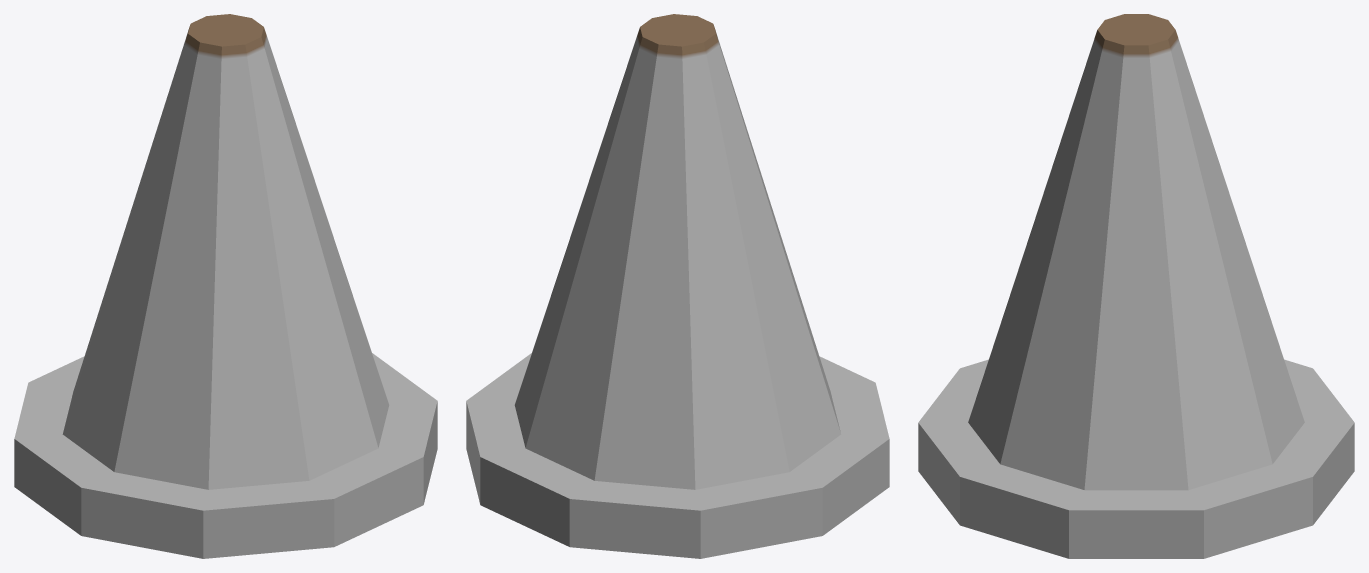
The model's file is Props_Traffic_cone.glb.
3 views of the same model, side by side, from view 1: azimuth 30°, elevation 25°; view 2: azimuth 150°, elevation 25°; view 3: azimuth 270°, elevation 25° (orthographic).
Visible parts, largest first — view 1: Props_Traffic cone; view 2: Props_Traffic cone; view 3: Props_Traffic cone.
Boxes of the visible parts, x1,y1,x2,y2 form: Props_Traffic cone: (14,14,437,558); Props_Traffic cone: (466,14,889,558); Props_Traffic cone: (918,14,1354,558).
Bounding box in the file's own units: 0.7849 × 0.9212 × 0.8253.
1 material, 1 textured.
